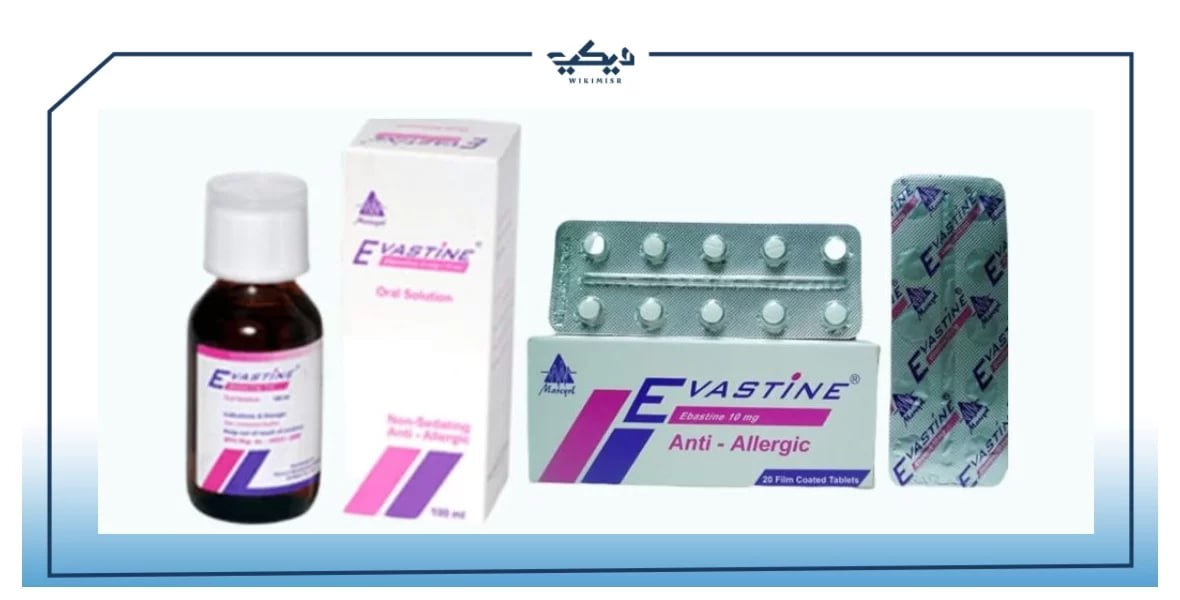Medicine: (335, 115, 505, 517), (517, 335, 887, 502), (185, 168, 327, 532), (887, 168, 1013, 490)
